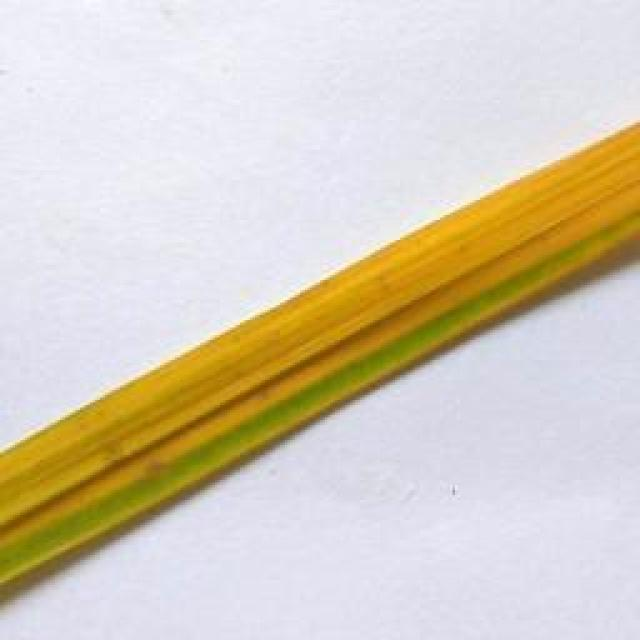Bacterial_Blight: (0, 121, 640, 551)
